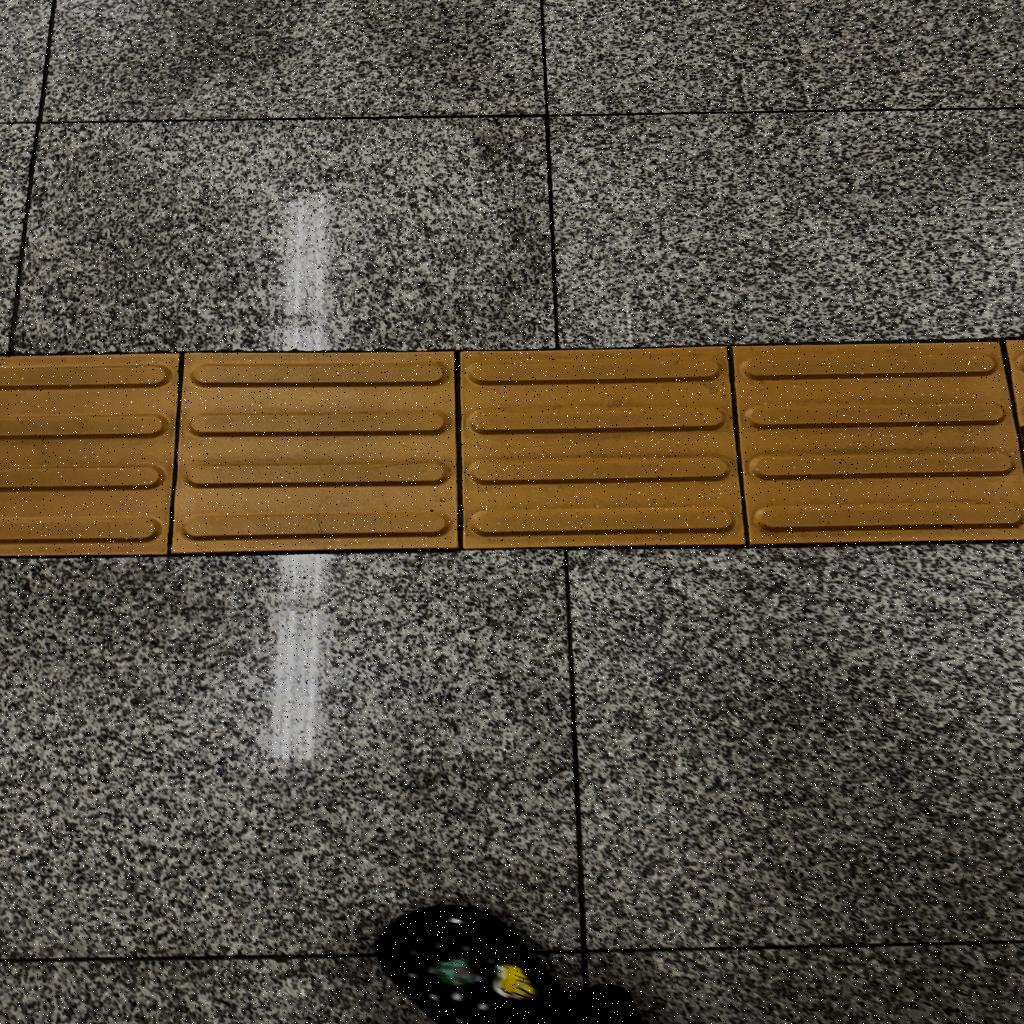Straight block normal: (169, 348, 458, 550), (464, 353, 732, 540)
